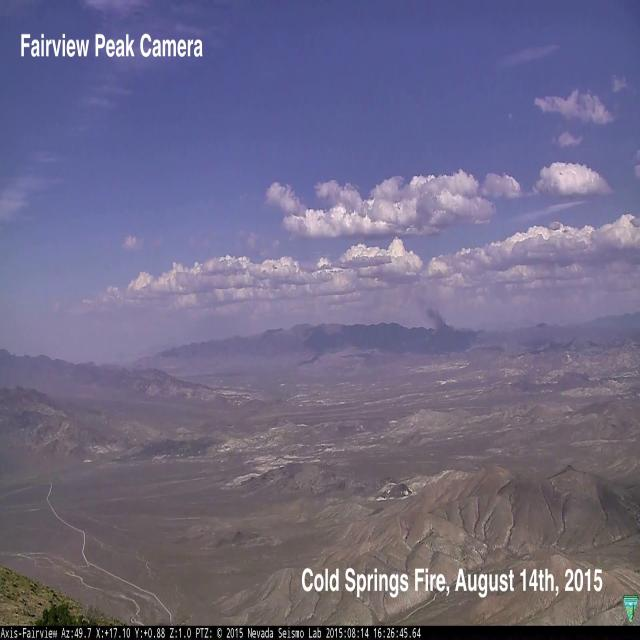smoke: (410, 295, 457, 331)
